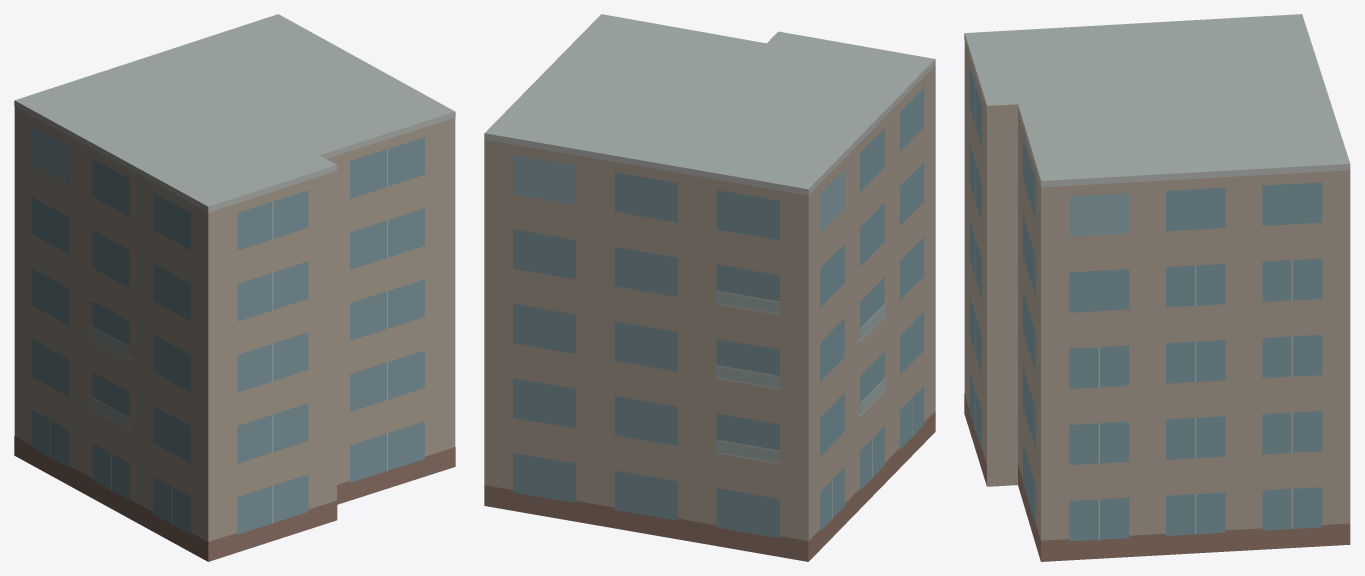
Rendered from survey-upis-33033991.glb.
The picture shows the model from 3 angles, left to right: view 1: azimuth 30°, elevation 25°; view 2: azimuth 150°, elevation 25°; view 3: azimuth 270°, elevation 25°; orthographic projection. The views are drawn at different scales.
Visible parts, largest first — view 1: survey-upis-33033991.tmp; view 2: survey-upis-33033991.tmp; view 3: survey-upis-33033991.tmp.
Boxes of the visible parts, x1,y1,x2,y2 form: survey-upis-33033991.tmp: (14,14,455,561); survey-upis-33033991.tmp: (484,14,935,561); survey-upis-33033991.tmp: (964,14,1350,561).
Size of the model in its own units: 13.83 by 14.69 by 13.5.
